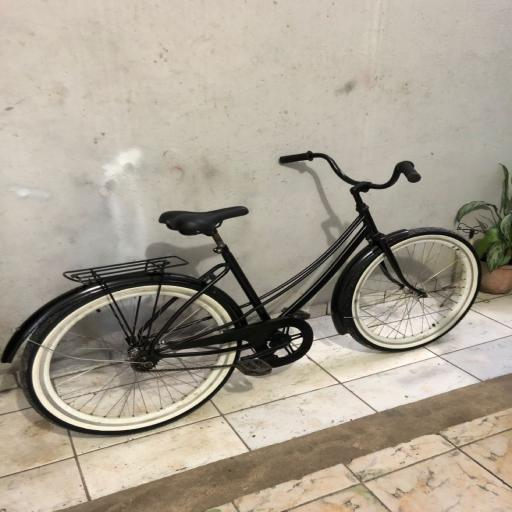bag: (0, 151, 480, 435)
